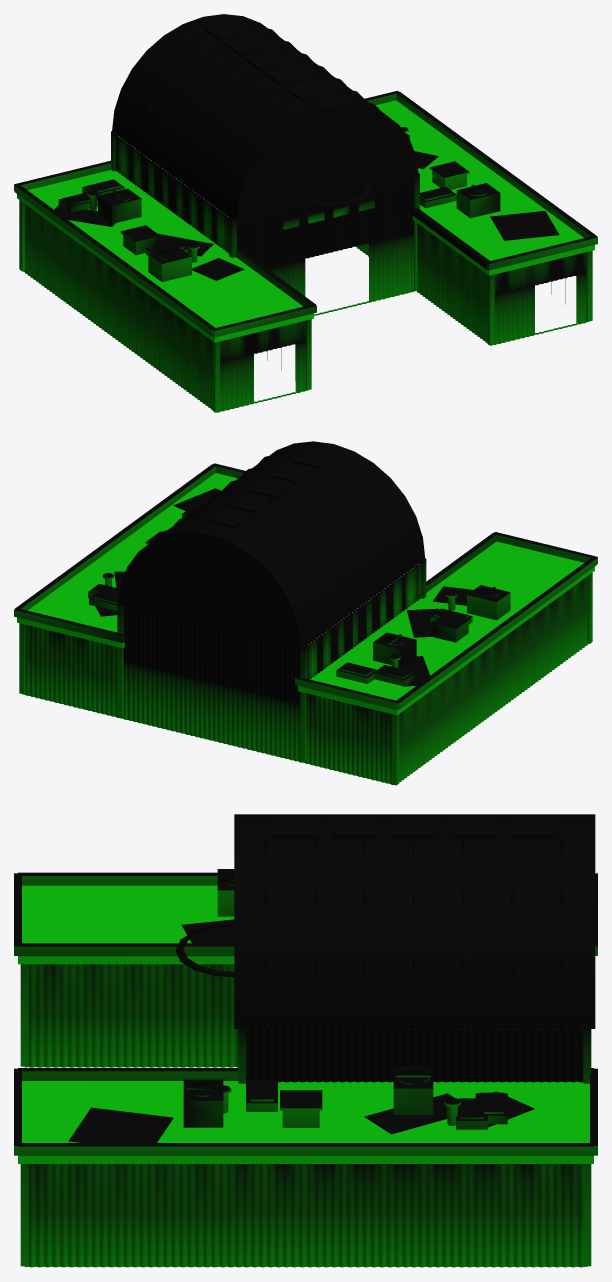
Rendered from meethall.glb.
3 renders of one model, top to bottom at view 1: azimuth 30°, elevation 25°; view 2: azimuth 150°, elevation 25°; view 3: azimuth 270°, elevation 25°, orthographic. The views are drawn at different scales.
Parts seen in each view (by area): view 1: lod0; view 2: lod0; view 3: lod0.
Boxes of the visible parts, x1,y1,x2,y2 form: lod0: [14, 14, 597, 412]; lod0: [14, 441, 597, 785]; lod0: [14, 814, 597, 1267].
Size of what is drawn, in the model's own units: 24.42 by 12.73 by 22.
